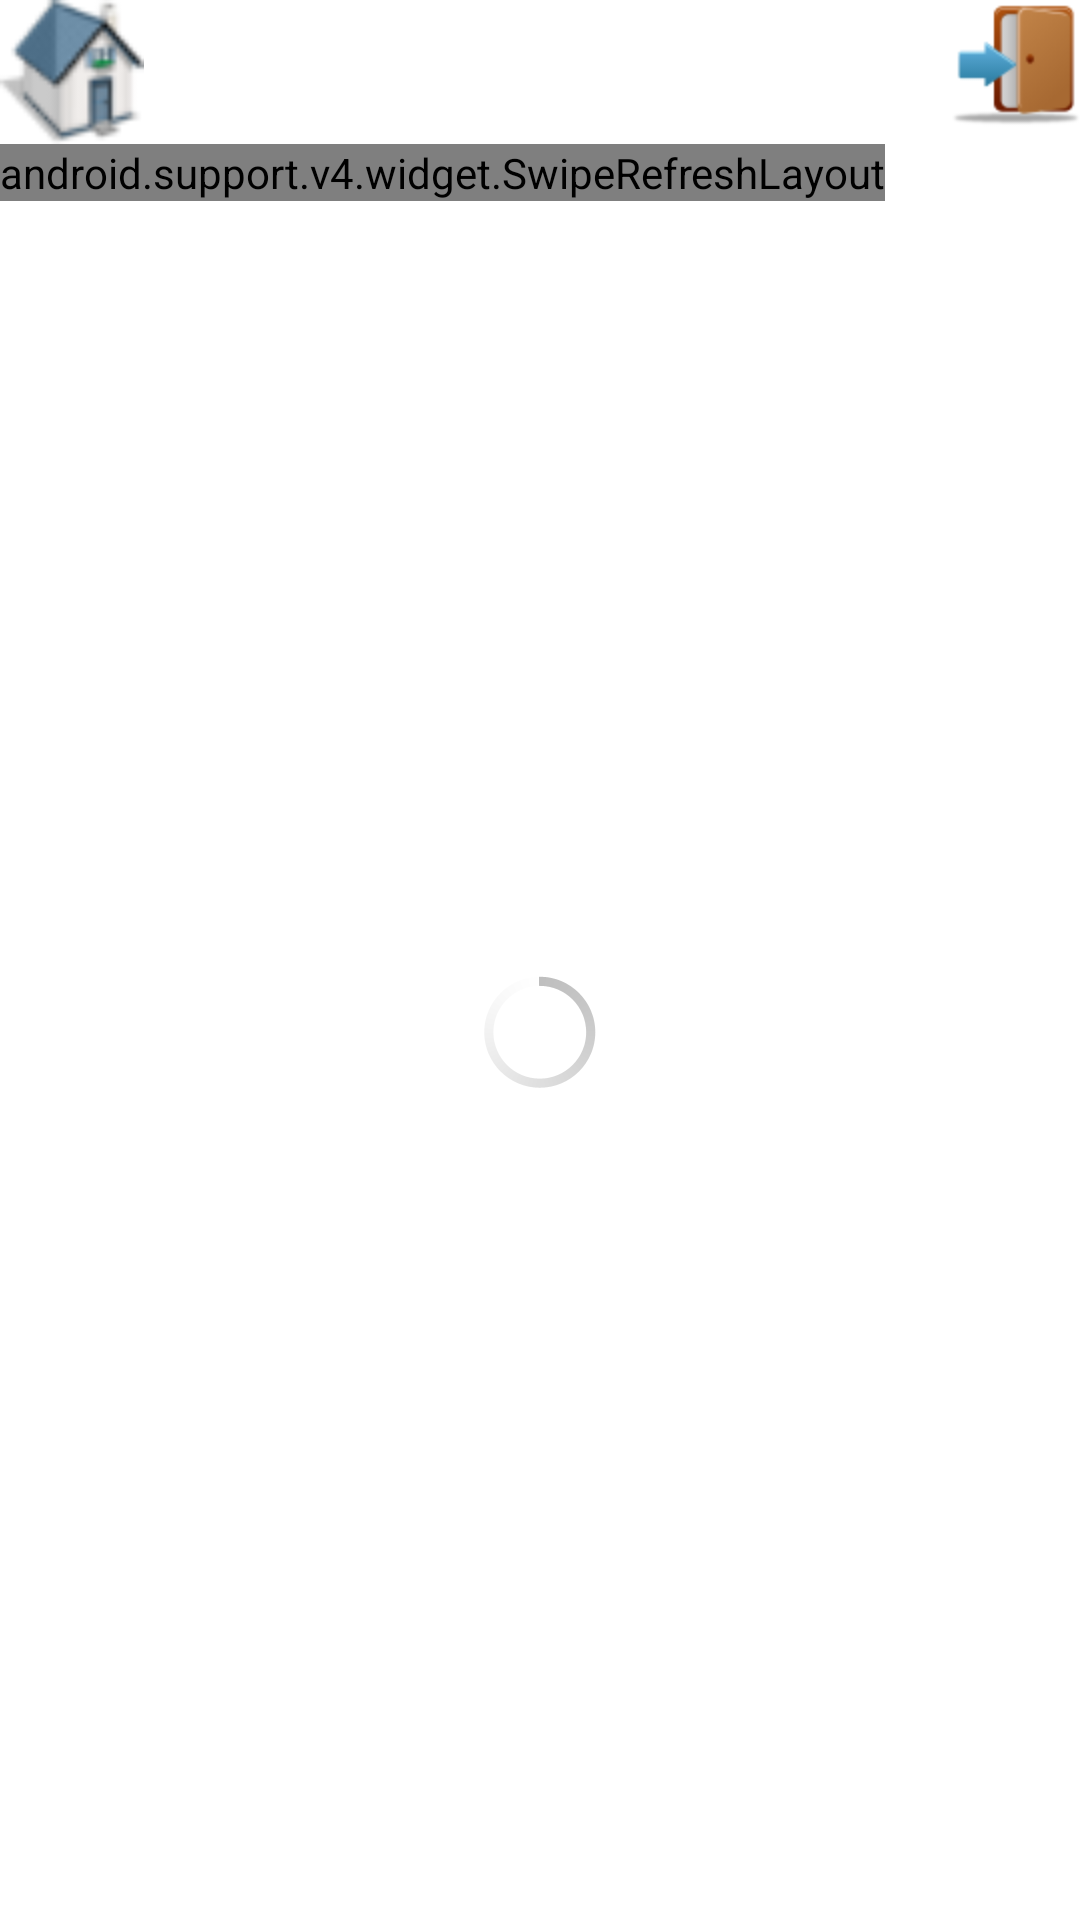

Named icons in this screenshot (1080 x 1920) and their centers, (x=x, y=y):
home: (x=72, y=70)
